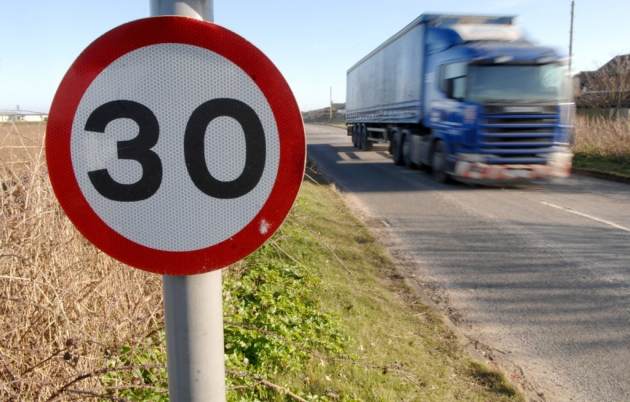Speed_limit_30km: (43, 17, 307, 278)
